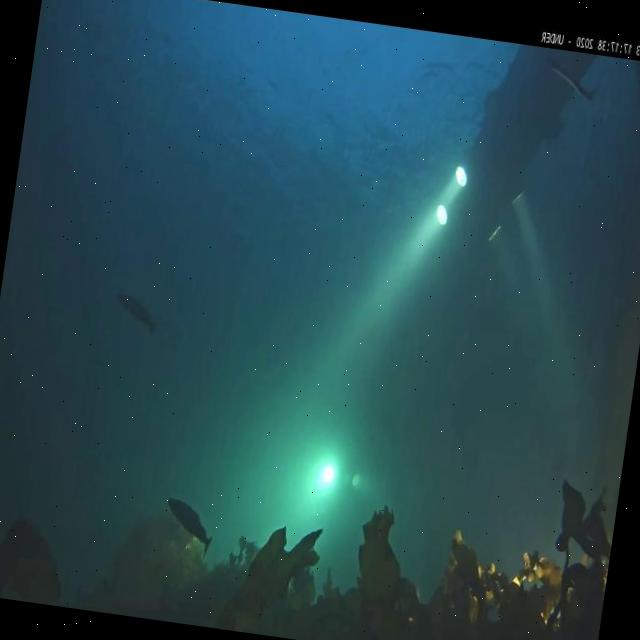fish: (163, 494, 214, 556), (111, 292, 159, 336), (548, 64, 598, 102)
